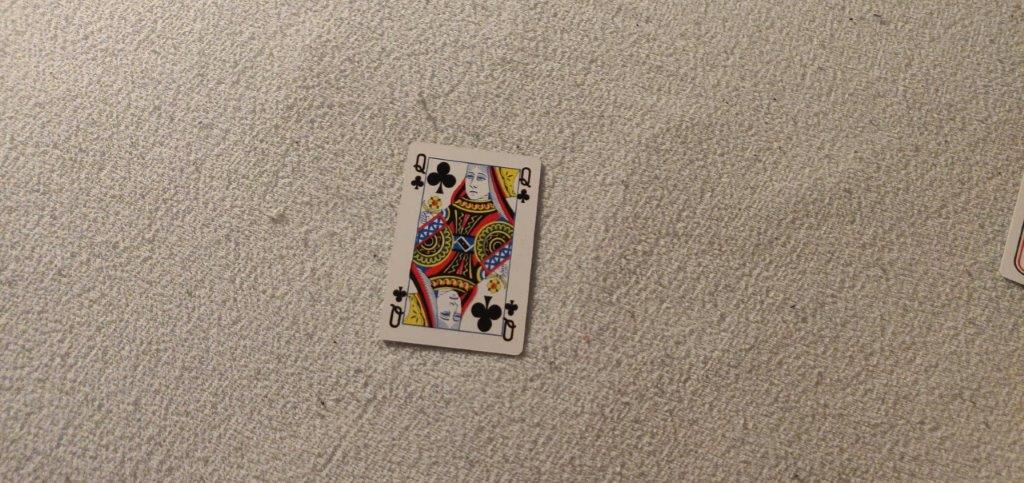QC: (409, 152, 430, 195), (514, 164, 535, 207)
